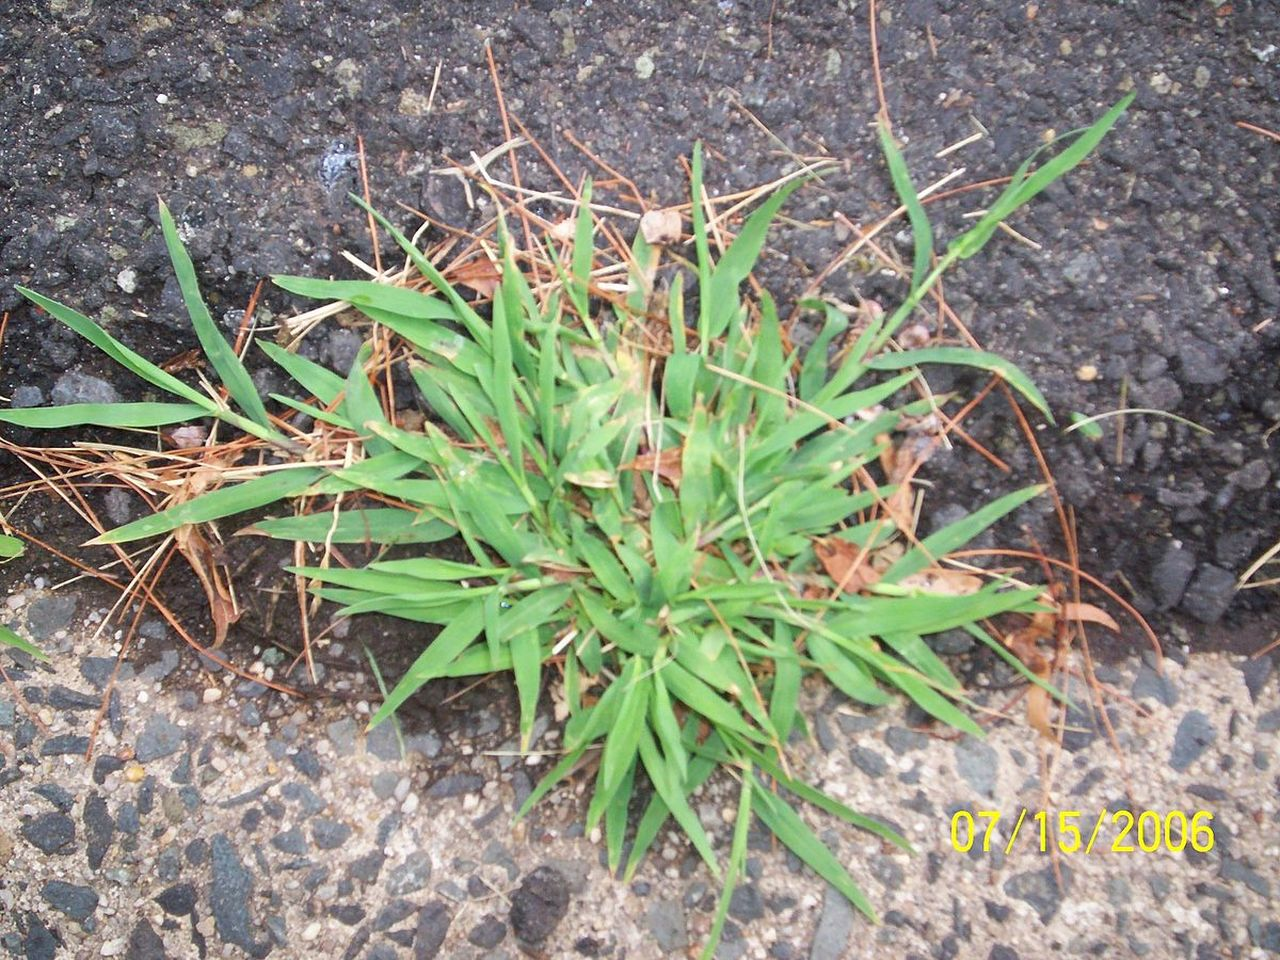crabgrass: (200, 207, 1152, 894)
